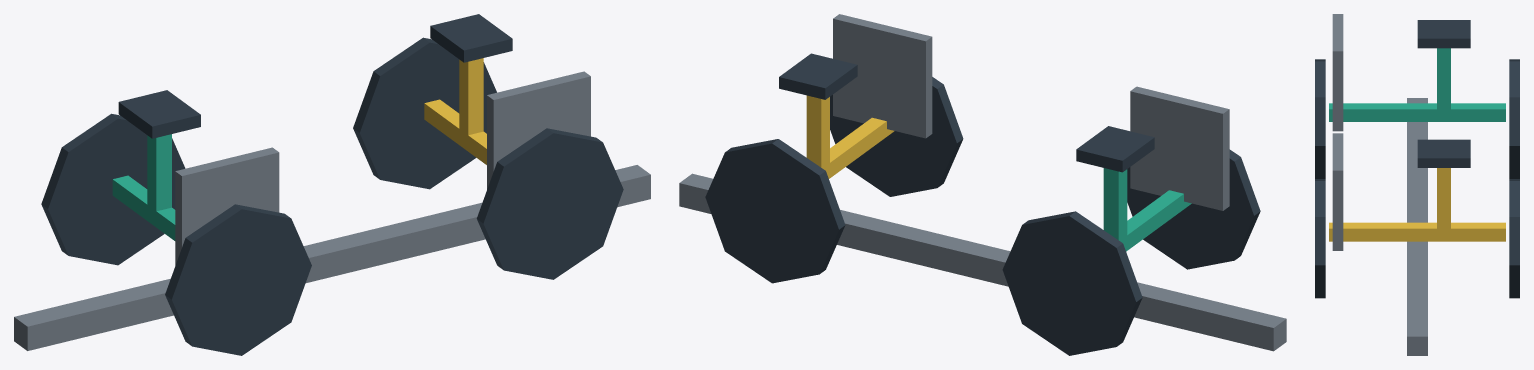
File: bike_rack.fbx
The picture shows the model from 3 angles, left to right: view 1: azimuth 30°, elevation 25°; view 2: azimuth 150°, elevation 25°; view 3: azimuth 270°, elevation 25°; orthographic projection. The views are drawn at different scales.
Parts seen in each view (by area): view 1: bike_rack; view 2: bike_rack; view 3: bike_rack.
Boxes of the visible parts, x1=… form: bike_rack: x1=14, y1=14, x2=650, y2=355; bike_rack: x1=679, y1=14, x2=1286, y2=355; bike_rack: x1=1315, y1=14, x2=1519, y2=355.
Bounding box in the file's own units: 3.2 × 0.92 × 1.16.
